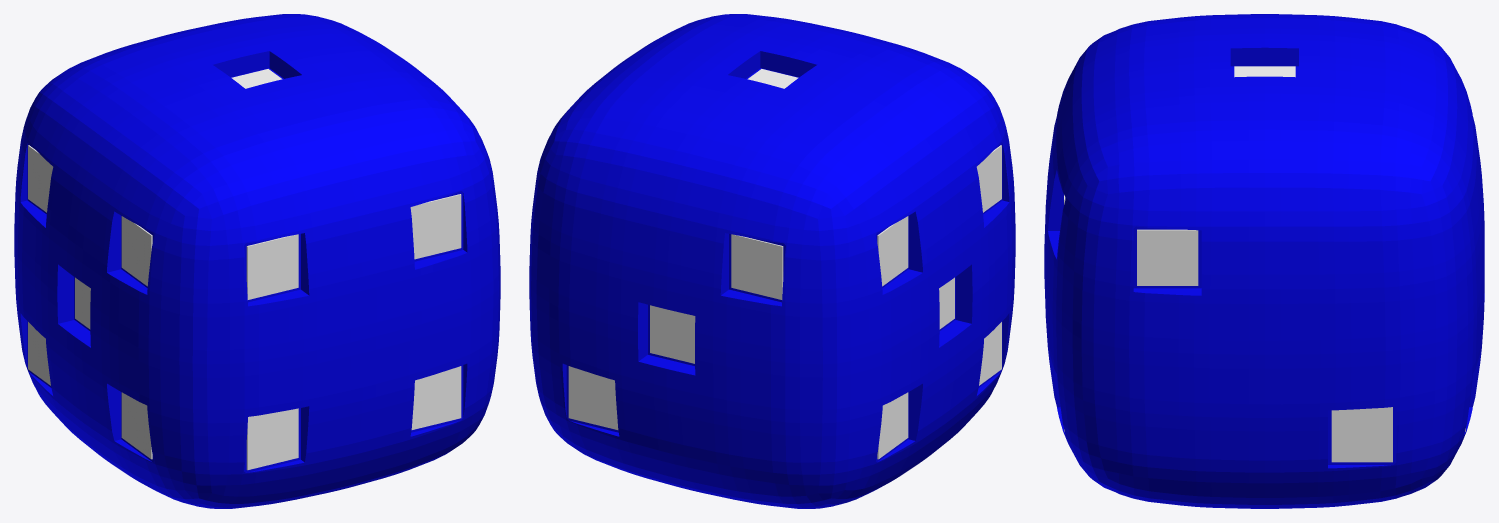
The model's file is 4_growing_dice_blue.gltf.
3 views of the same model, side by side, from view 1: azimuth 30°, elevation 25°; view 2: azimuth 150°, elevation 25°; view 3: azimuth 270°, elevation 25° (orthographic). The views are drawn at different scales.
Parts seen in each view (by area): view 1: D6_Dice_Blue; view 2: D6_Dice_Blue; view 3: D6_Dice_Blue.
Part boxes in pixels (bbox=[...]): D6_Dice_Blue: bbox=[14, 14, 500, 508]; D6_Dice_Blue: bbox=[529, 14, 1015, 508]; D6_Dice_Blue: bbox=[1044, 14, 1484, 508].
Bounding box in the file's own units: 2.26 × 2.26 × 2.26.
